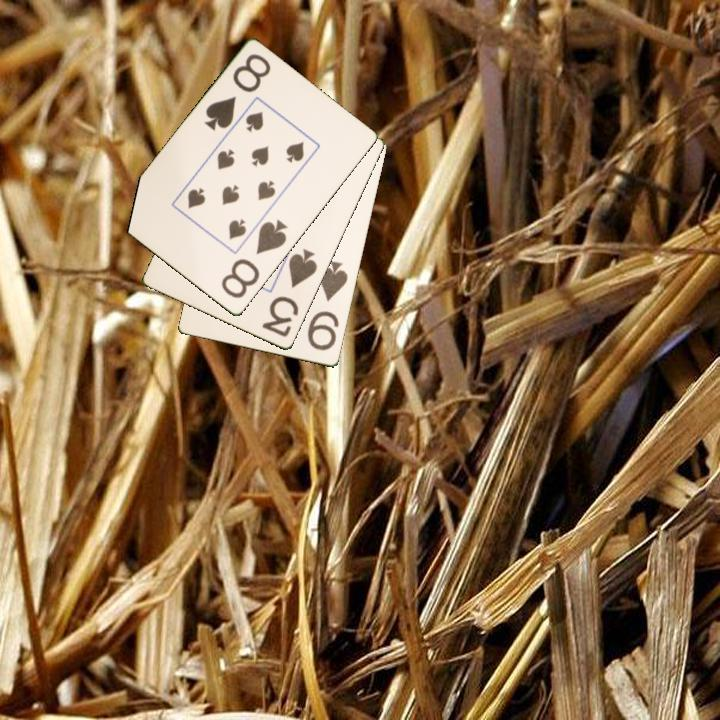3s: (259, 245, 320, 341)
8s: (217, 216, 291, 302), (201, 50, 274, 134)
9s: (304, 258, 351, 354)
